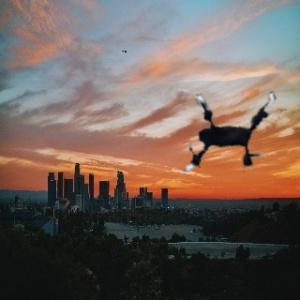drone: (154, 57, 293, 196)
